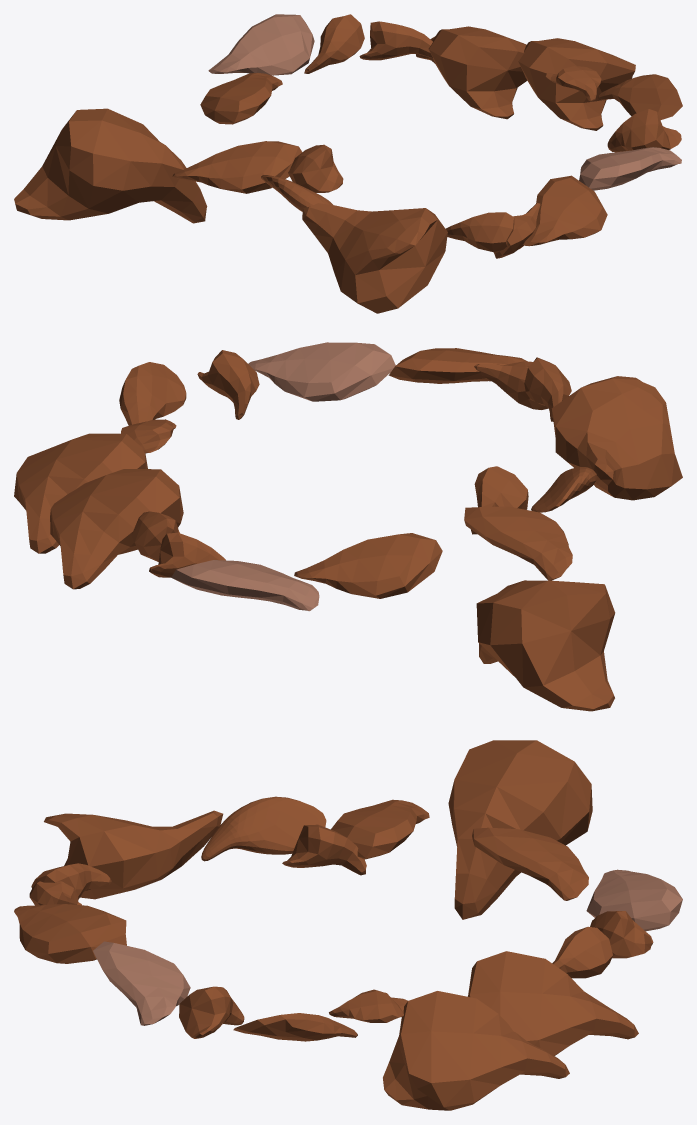
The model's file is rocks.dae.
3 views of the same model, one above another, from view 1: azimuth 30°, elevation 25°; view 2: azimuth 150°, elevation 25°; view 3: azimuth 270°, elevation 25° (orthographic). The views are drawn at different scales.
Visible parts, largest first — view 1: Cube.010, Cube.006, Cube.016, Cube.012, Cube.014, Cube.015, Cube.013, Cube.008, Cube.007, Cube.005, Cube.003, Cube.002 (+6 smaller); view 2: Cube.010, Cube.006, Cube.016, Cube.012, Cube.007, Cube.008, Cube.015, Cube.014, Cube.013, Cube.005, Cube.003, Cube.011 (+6 smaller); view 3: Cube.010, Cube.012, Cube.016, Cube.006, Cube.013, Cube.001, Cube.008, Cube.007, Cube.014, Cube.015, Cube.011, Cube.003 (+6 smaller).
Boxes of the visible parts, left/top/right/bottom form: Cube.010: left=14, top=108, right=207, bottom=223; Cube.006: left=302, top=203, right=447, bottom=313; Cube.016: left=416, top=26, right=527, bottom=119; Cube.012: left=518, top=38, right=635, bottom=130; Cube.014: left=208, top=14, right=314, bottom=75; Cube.015: left=172, top=141, right=302, bottom=193; Cube.013: left=523, top=175, right=607, bottom=246; Cube.008: left=579, top=147, right=681, bottom=190; Cube.007: left=200, top=72, right=282, bottom=124; Cube.005: left=598, top=74, right=682, bottom=120; Cube.003: left=607, top=109, right=681, bottom=152; Cube.002: left=359, top=21, right=432, bottom=60; Cube.010: left=476, top=580, right=615, bottom=711; Cube.006: left=551, top=376, right=682, bottom=500; Cube.016: left=50, top=469, right=183, bottom=589; Cube.012: left=14, top=433, right=147, bottom=553; Cube.007: left=294, top=533, right=442, bottom=598; Cube.008: left=248, top=342, right=395, bottom=401; Cube.015: left=464, top=506, right=572, bottom=580; Cube.014: left=171, top=560, right=319, bottom=611; Cube.013: left=388, top=348, right=527, bottom=383; Cube.005: left=119, top=362, right=186, bottom=425; Cube.003: left=197, top=350, right=259, bottom=419; Cube.011: left=471, top=466, right=528, bottom=534; Cube.010: left=448, top=740, right=592, bottom=919; Cube.012: left=383, top=991, right=569, bottom=1110; Cube.016: left=468, top=951, right=638, bottom=1055; Cube.006: left=44, top=810, right=223, bottom=899; Cube.013: left=14, top=904, right=126, bottom=963; Cube.001: left=201, top=796, right=326, bottom=861; Cube.008: left=93, top=941, right=190, bottom=1025; Cube.007: left=472, top=827, right=588, bottom=900; Cube.014: left=586, top=869, right=682, bottom=931; Cube.015: left=331, top=799, right=429, bottom=859; Cube.011: left=282, top=824, right=366, bottom=875; Cube.003: left=179, top=986, right=244, bottom=1038.
Bounding box in the file's own units: 144 × 125 × 27.74.
